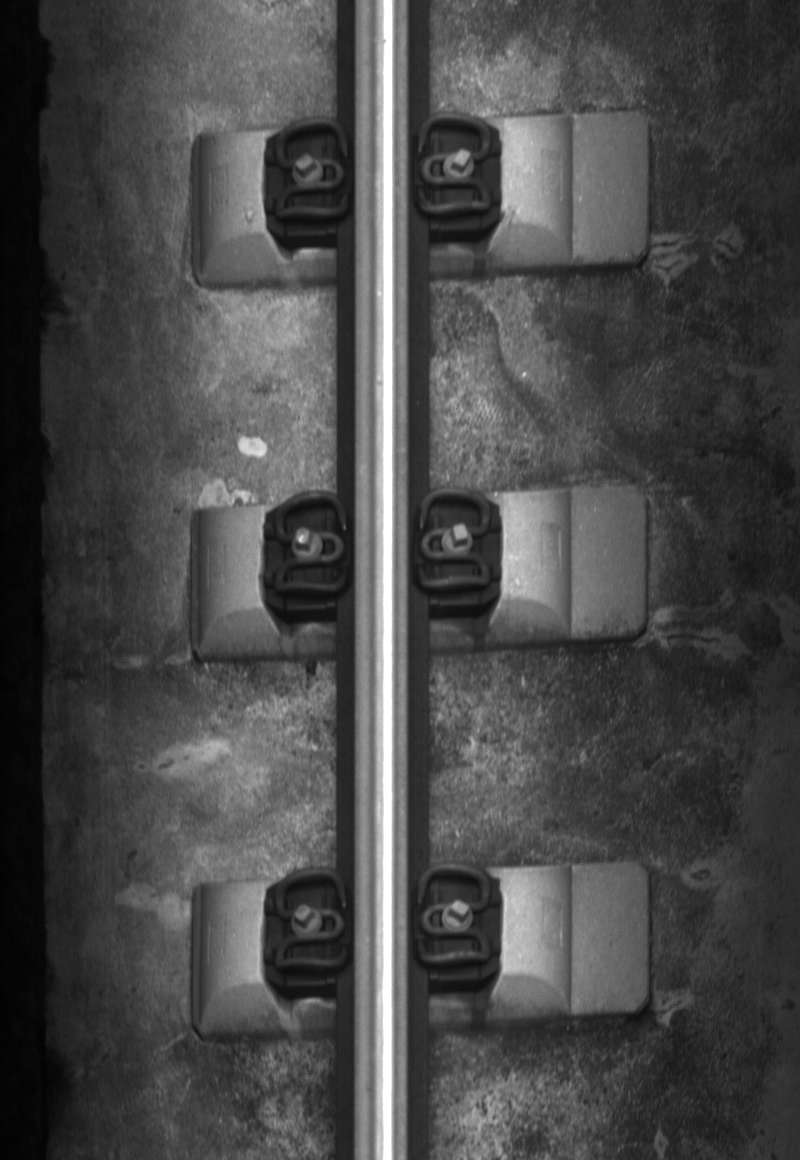l_faster: (267, 863, 353, 980), (269, 112, 354, 229), (269, 490, 352, 604)
r_faster: (410, 482, 497, 598), (410, 858, 495, 971), (411, 108, 496, 221)
